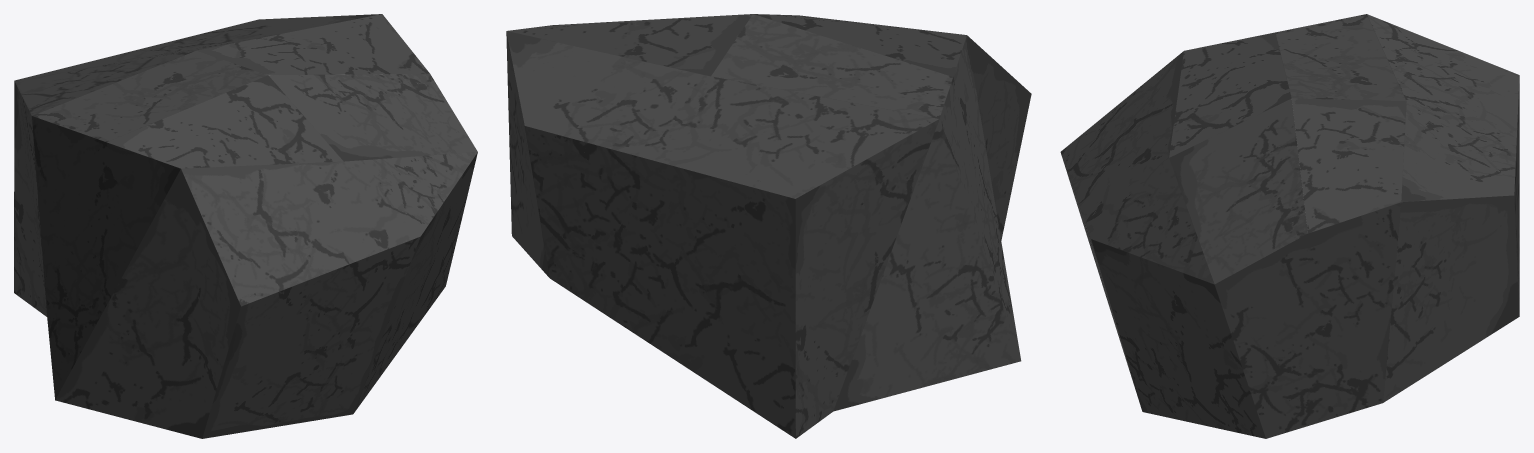
The model's file is rock1.fbx.
3 views of the same model, side by side, from view 1: azimuth 30°, elevation 25°; view 2: azimuth 150°, elevation 25°; view 3: azimuth 270°, elevation 25° (orthographic). The views are drawn at different scales.
Visible parts, largest first — view 1: Cube; view 2: Cube; view 3: Cube.
Boxes of the visible parts, x1,y1,x2,y2 form: Cube: (14,14,477,438); Cube: (506,14,1031,438); Cube: (1060,14,1519,438).
Size of the model in its own units: 16888 by 11779 by 15999.
Materials: 1 (1 with a texture image).
